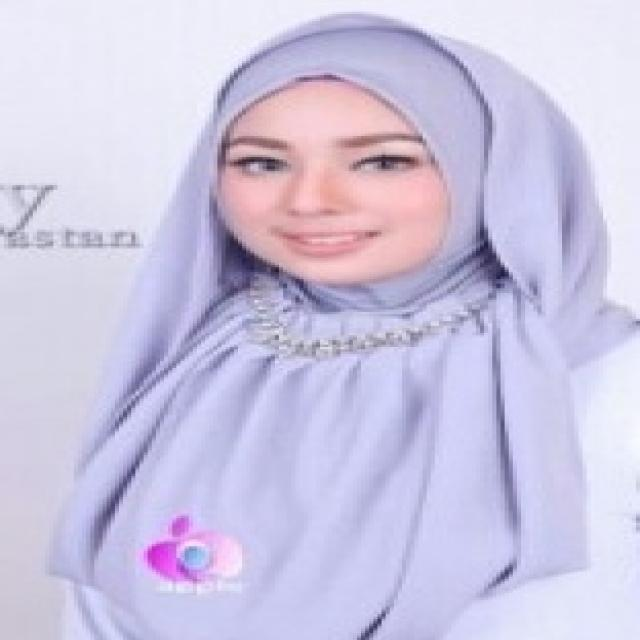head: (192, 18, 551, 308)
